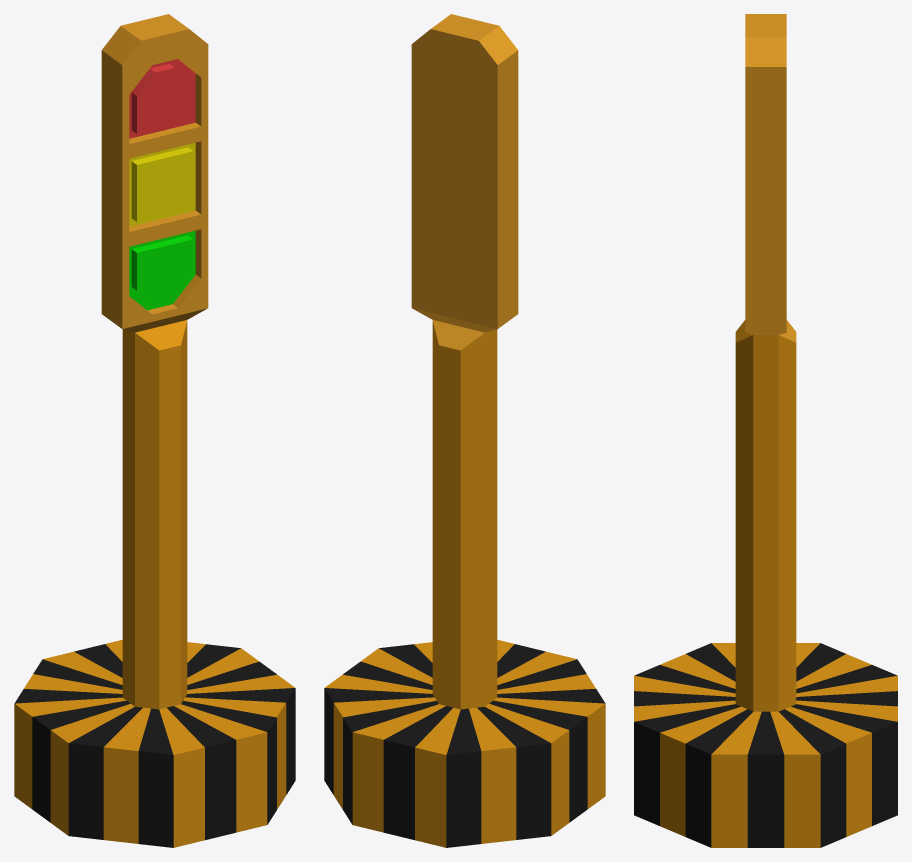
File: Traffic Light 1.fbx
3 views of the same model, side by side, from view 1: azimuth 30°, elevation 25°; view 2: azimuth 150°, elevation 25°; view 3: azimuth 270°, elevation 25° (orthographic).
Parts seen in each view (by area): view 1: Traffic Light 1, Traffic Light 1 Yellow, Traffic Light 1 Green, Traffic Light 1 Red; view 2: Traffic Light 1; view 3: Traffic Light 1.
Part boxes in pixels (box(x1,y1,x2,y2)): Traffic Light 1: box(14, 14, 295, 847); Traffic Light 1 Yellow: box(131, 147, 193, 221); Traffic Light 1 Green: box(131, 235, 193, 305); Traffic Light 1 Red: box(131, 64, 193, 133); Traffic Light 1: box(324, 14, 605, 847); Traffic Light 1: box(634, 14, 897, 847).
Bounding box in the file's own units: 0.5542 × 0.5542 × 1.78.
